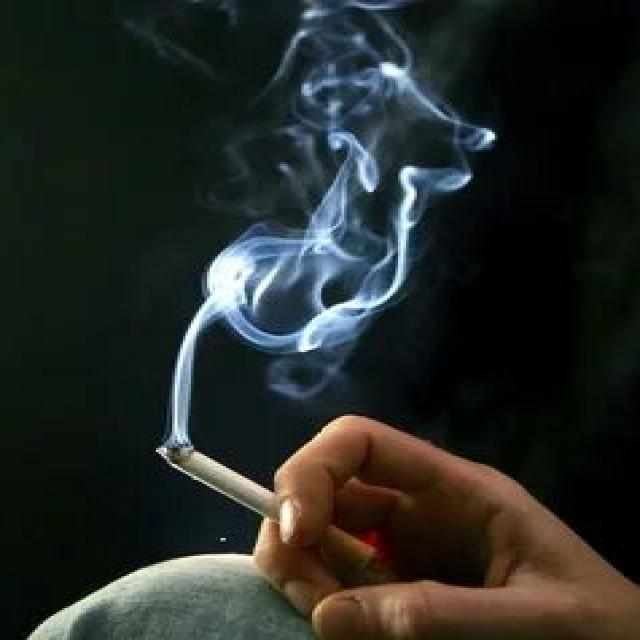smoke: (153, 436, 385, 578)
